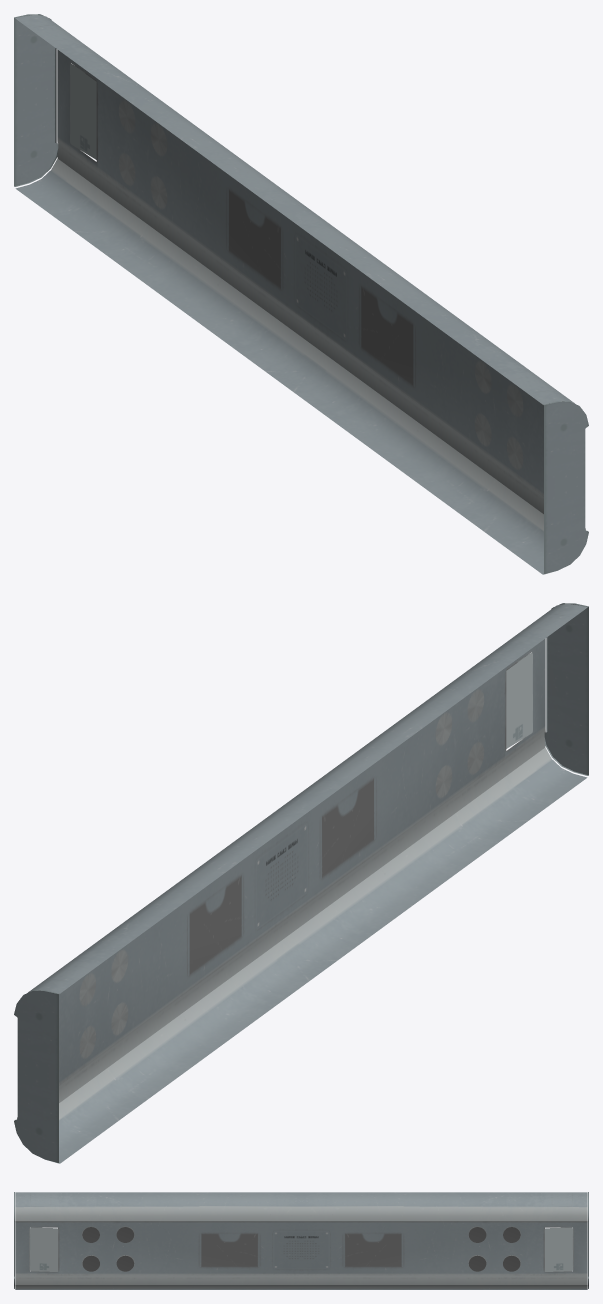
The model's file is SM_OverbedConsole_LOD0_001.fbx.
The picture shows the model from 3 angles, top to bottom: view 1: azimuth 30°, elevation 25°; view 2: azimuth 150°, elevation 25°; view 3: azimuth 270°, elevation 25°; orthographic projection. The views are drawn at different scales.
Visible parts, largest first — view 1: SM_OverbedConsole_LOD0.001; view 2: SM_OverbedConsole_LOD0.001; view 3: SM_OverbedConsole_LOD0.001.
Part boxes in pixels (box(x1,y1,x2,y2)): SM_OverbedConsole_LOD0.001: box(14, 14, 588, 574); SM_OverbedConsole_LOD0.001: box(14, 603, 588, 1163); SM_OverbedConsole_LOD0.001: box(14, 1192, 588, 1289).
Size of the model in its own units: 6.06 by 21.82 by 123.
